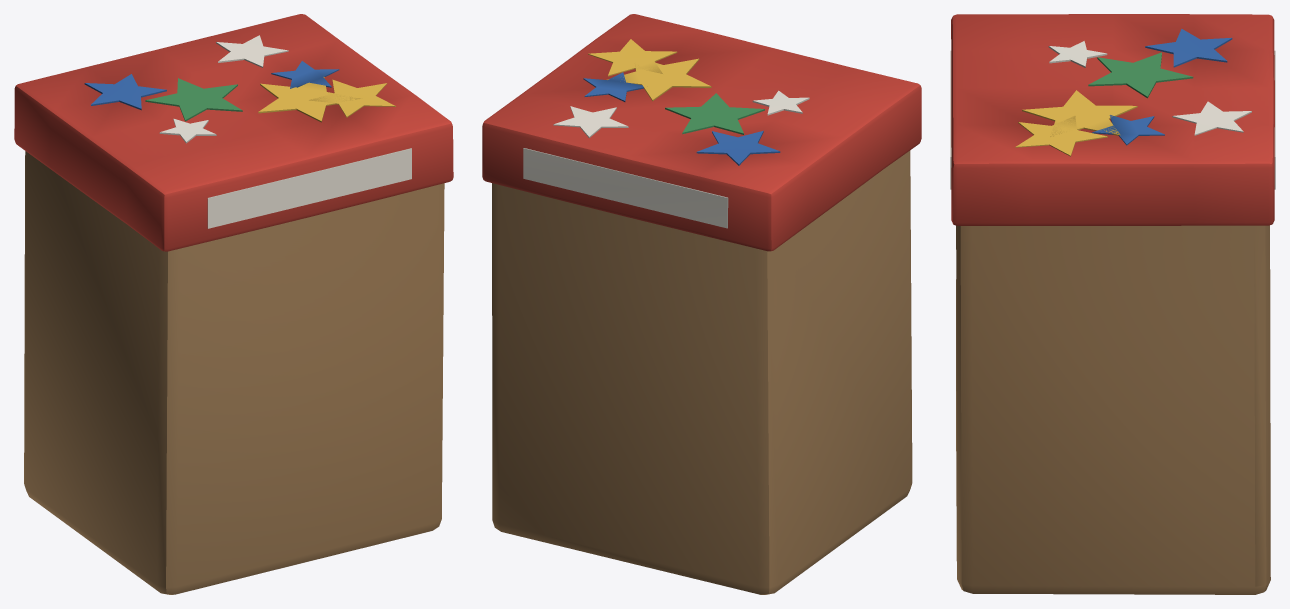
Rendered from den_game_box.glb.
3 renders of one model, left to right at view 1: azimuth 30°, elevation 25°; view 2: azimuth 150°, elevation 25°; view 3: azimuth 270°, elevation 25°, orthographic. The views are drawn at different scales.
Parts seen in each view (by area): view 1: den_game_box; view 2: den_game_box; view 3: den_game_box.
Part boxes in pixels (left/top/right/bottom): den_game_box: left=14, top=14, right=453, bottom=594; den_game_box: left=482, top=14, right=921, bottom=594; den_game_box: left=950, top=14, right=1275, bottom=594.
Bounding box in the file's own units: 10.02 × 13.57 × 9.06.
